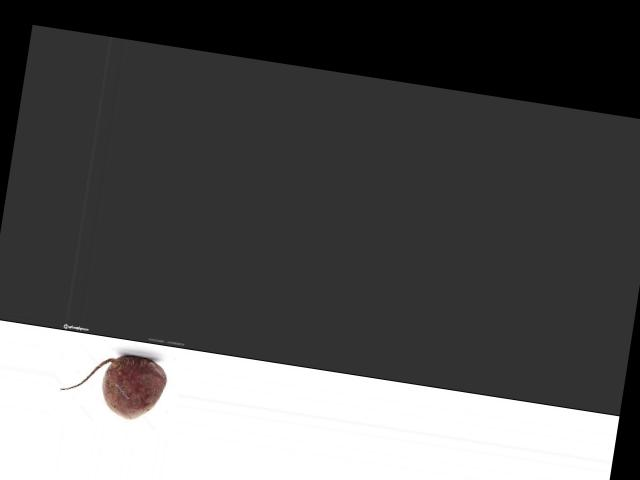beet: (58, 345, 170, 422)
